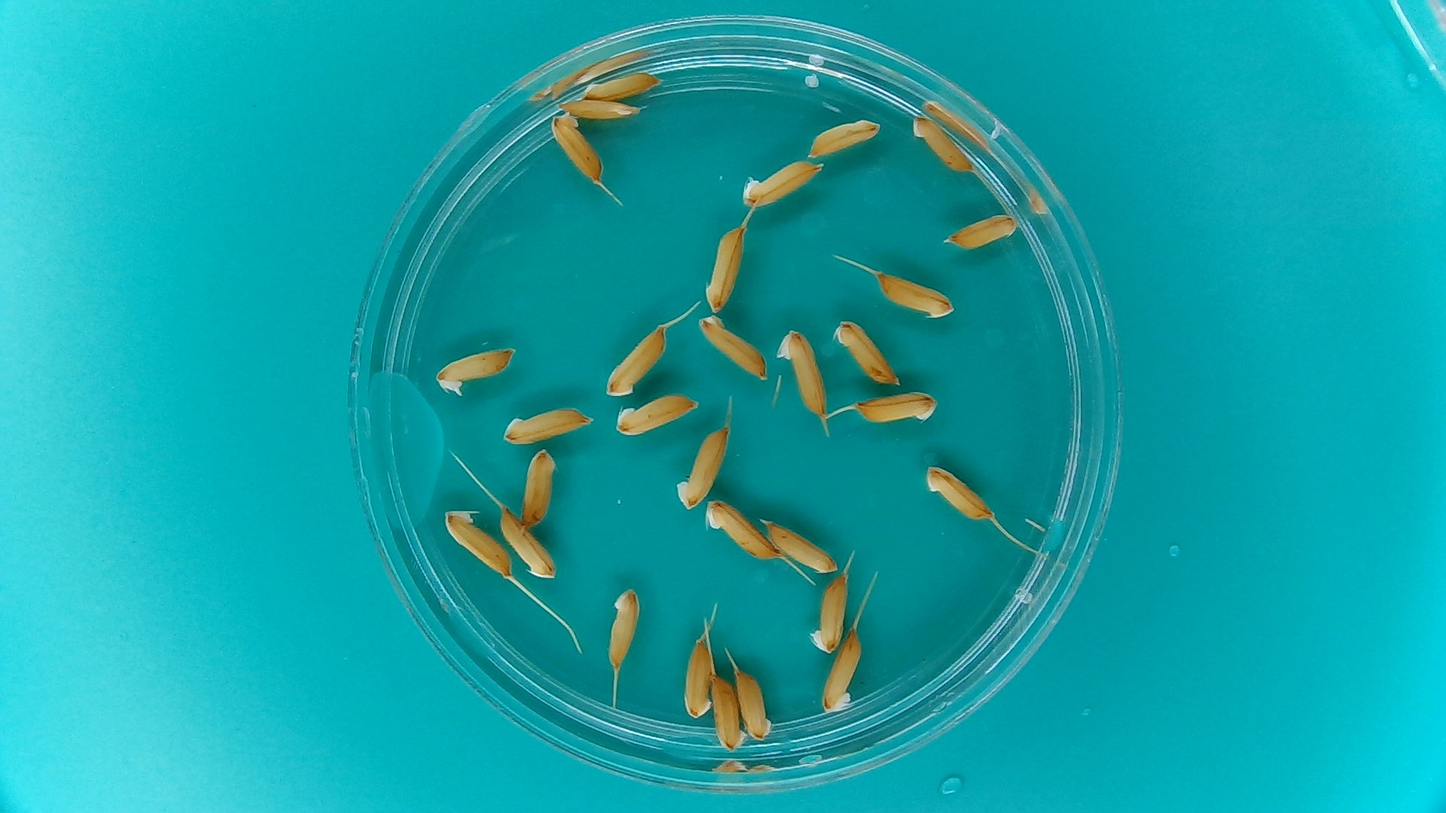no: (704, 498, 785, 563), (444, 508, 515, 582), (490, 506, 560, 581), (602, 322, 670, 397), (675, 425, 731, 511), (697, 315, 768, 382), (832, 320, 905, 385), (778, 328, 826, 419), (701, 224, 748, 314), (737, 159, 823, 207), (878, 269, 958, 320), (613, 393, 700, 439), (923, 466, 994, 522), (766, 522, 838, 577), (911, 114, 975, 175), (551, 110, 603, 183), (502, 406, 596, 446), (807, 570, 849, 656), (822, 626, 862, 713), (806, 117, 883, 160), (520, 447, 556, 537), (705, 671, 744, 754), (854, 389, 940, 425), (607, 586, 641, 672), (943, 212, 1019, 250), (734, 669, 773, 742), (583, 70, 664, 102), (682, 637, 713, 720), (554, 98, 643, 120)
yes: (439, 349, 516, 397)
